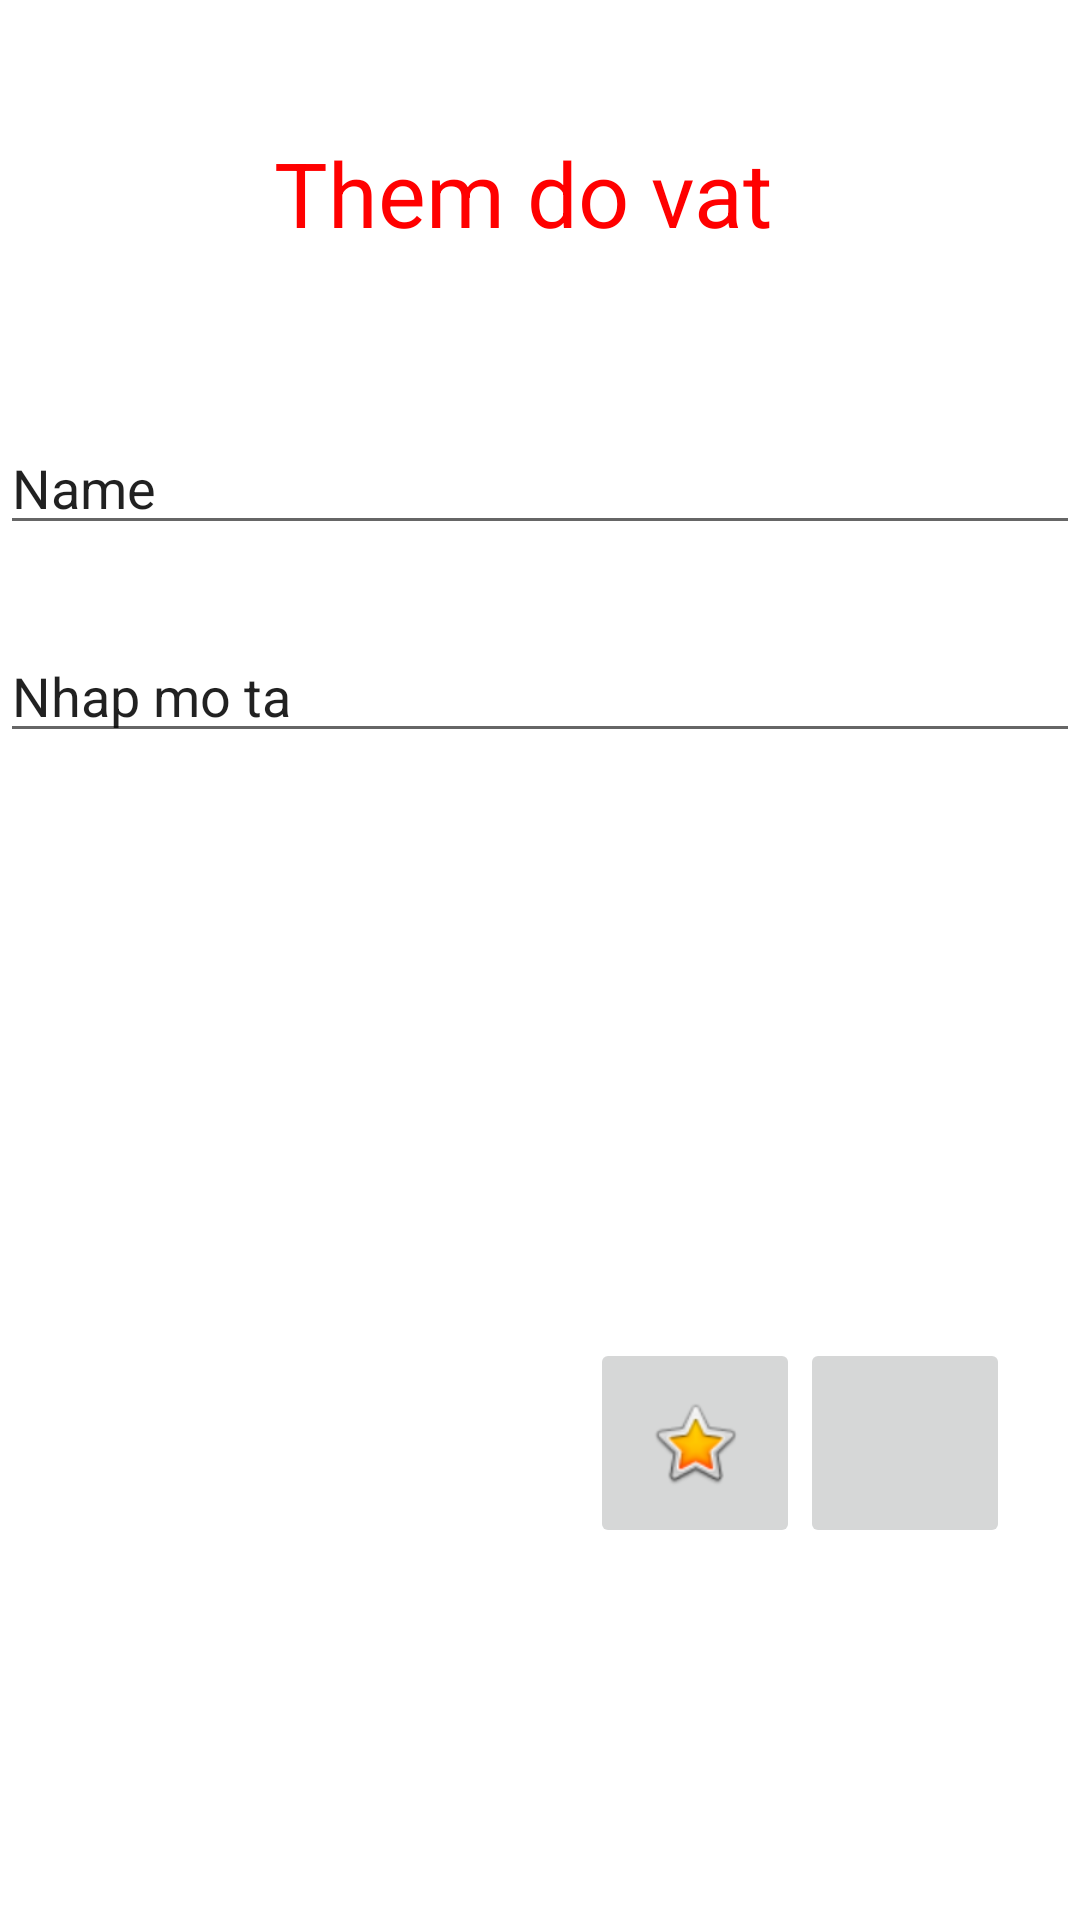

Icon bounding boxes for this 1080 x 1920 phone screenshot, format BBox(x1, y1, x2, y2):
star on: BBox(602, 1356, 788, 1530)
